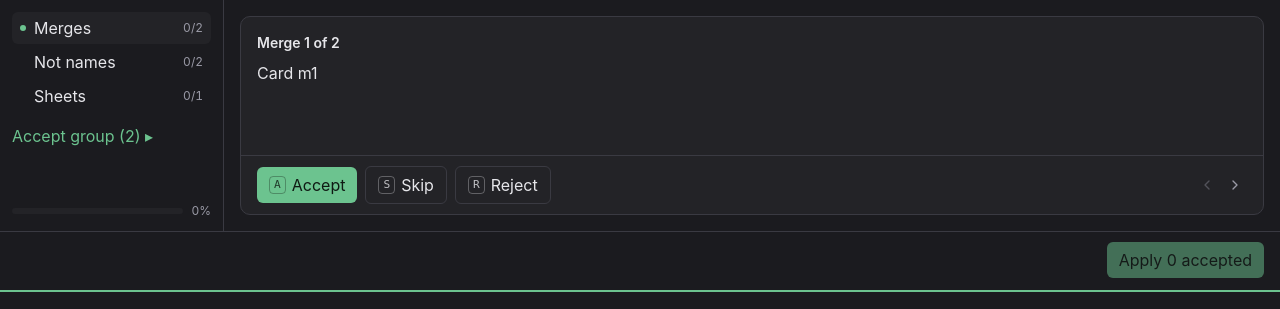
ReviewDeck › stops at the end with the skipped ones still to see, and offers Reject where it applies
The width and height of the screenshot is (1280, 309).
Press r in the element named "Changes"
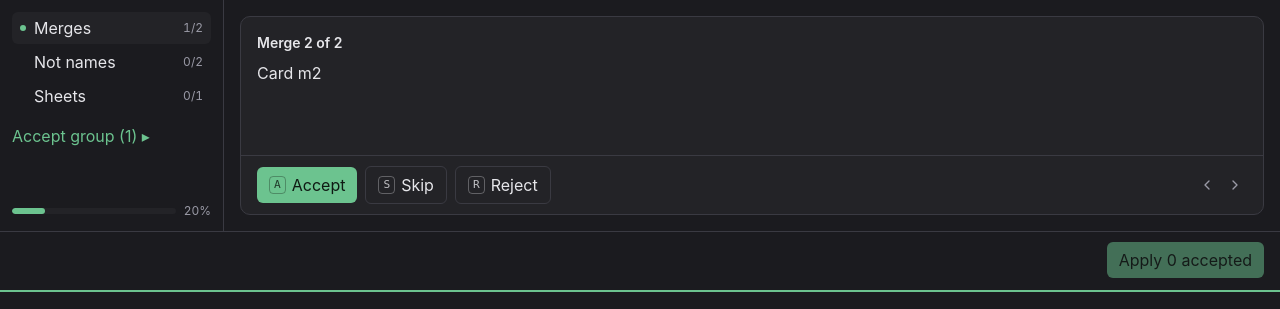
Press s in the element named "Changes"
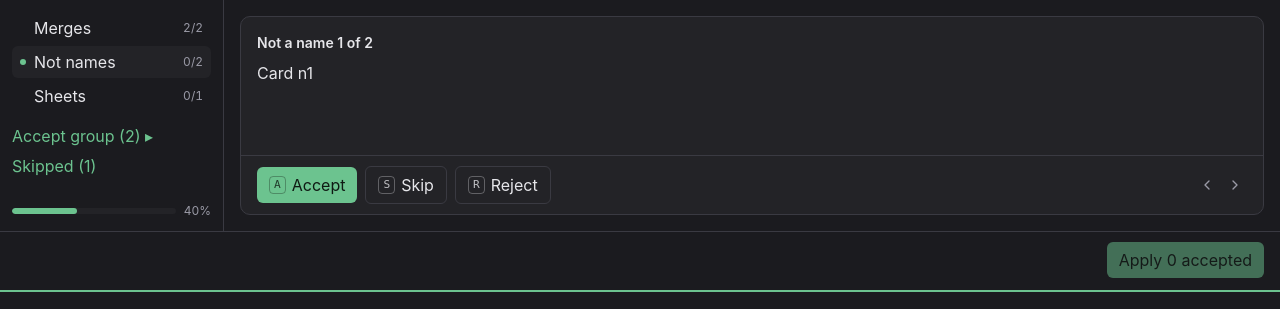
Press a in the element named "Changes"
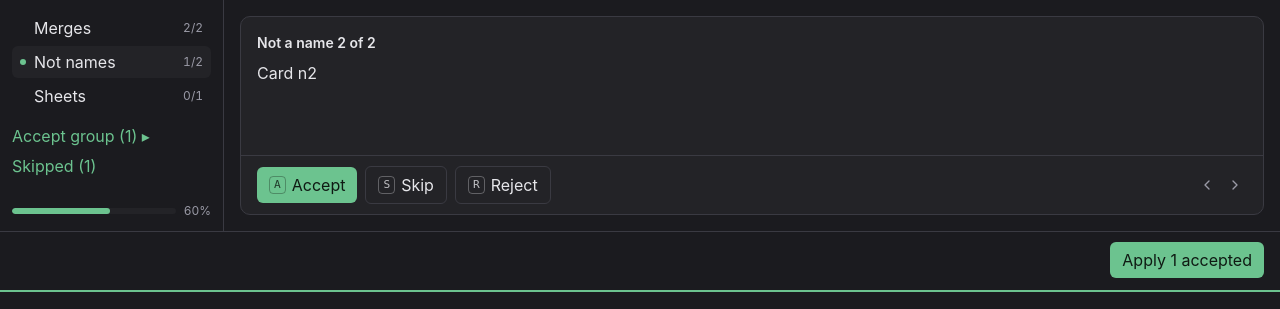
Press a in the element named "Changes"
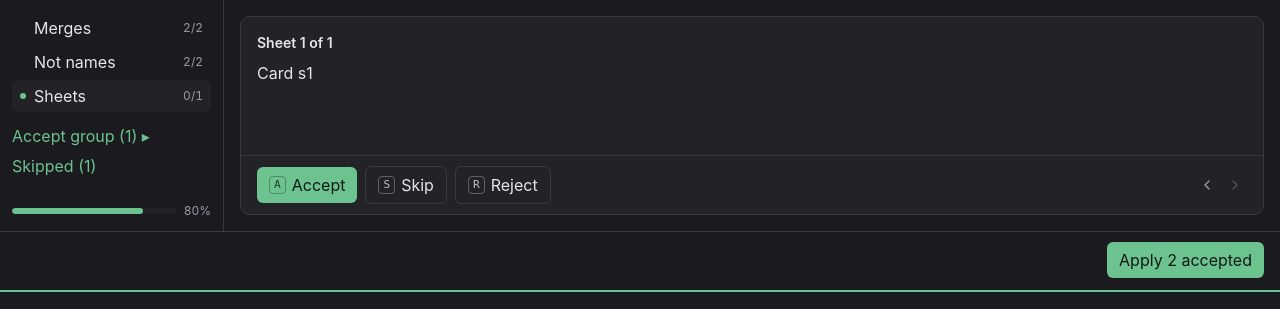
Press a in the element named "Changes"
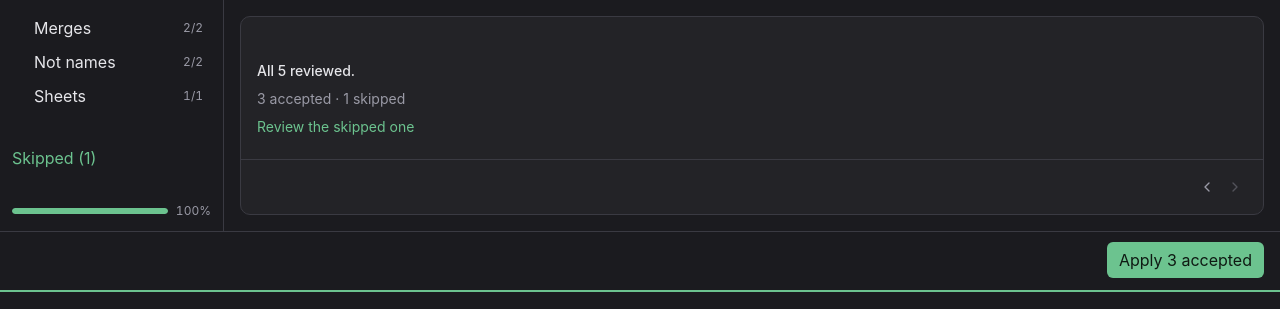
Result: the message with test id "review-done" shows "3 accepted · 1 skipped" at [257,90,405,107]
Click the button with test id "review-review-skipped" at {"x": 336, "y": 127}, box [257,117,414,137]
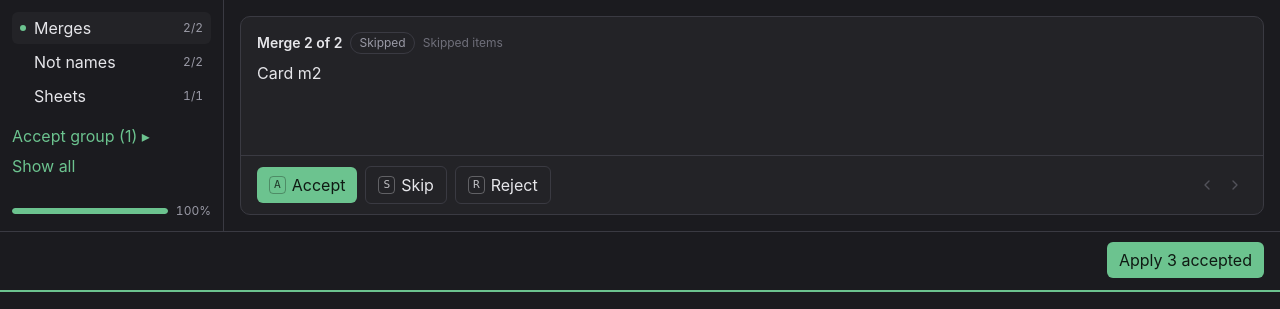
Result: the text "Card m2" is shown at [257,63,322,83]
